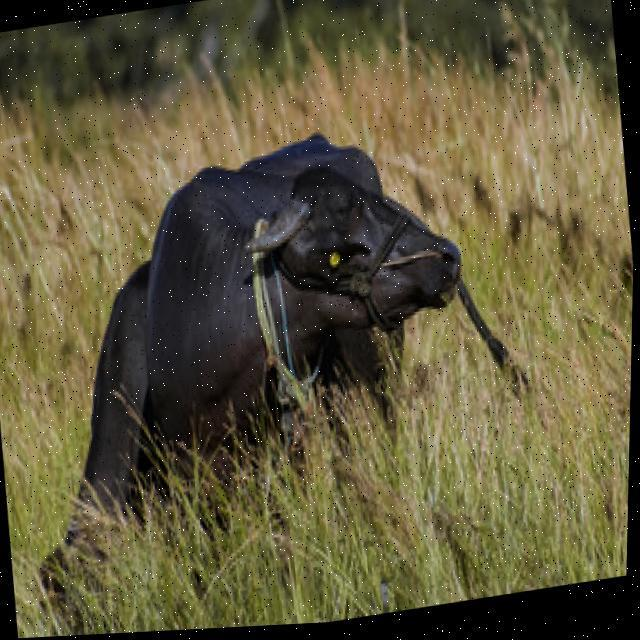Buffalo: (0, 94, 555, 640)
